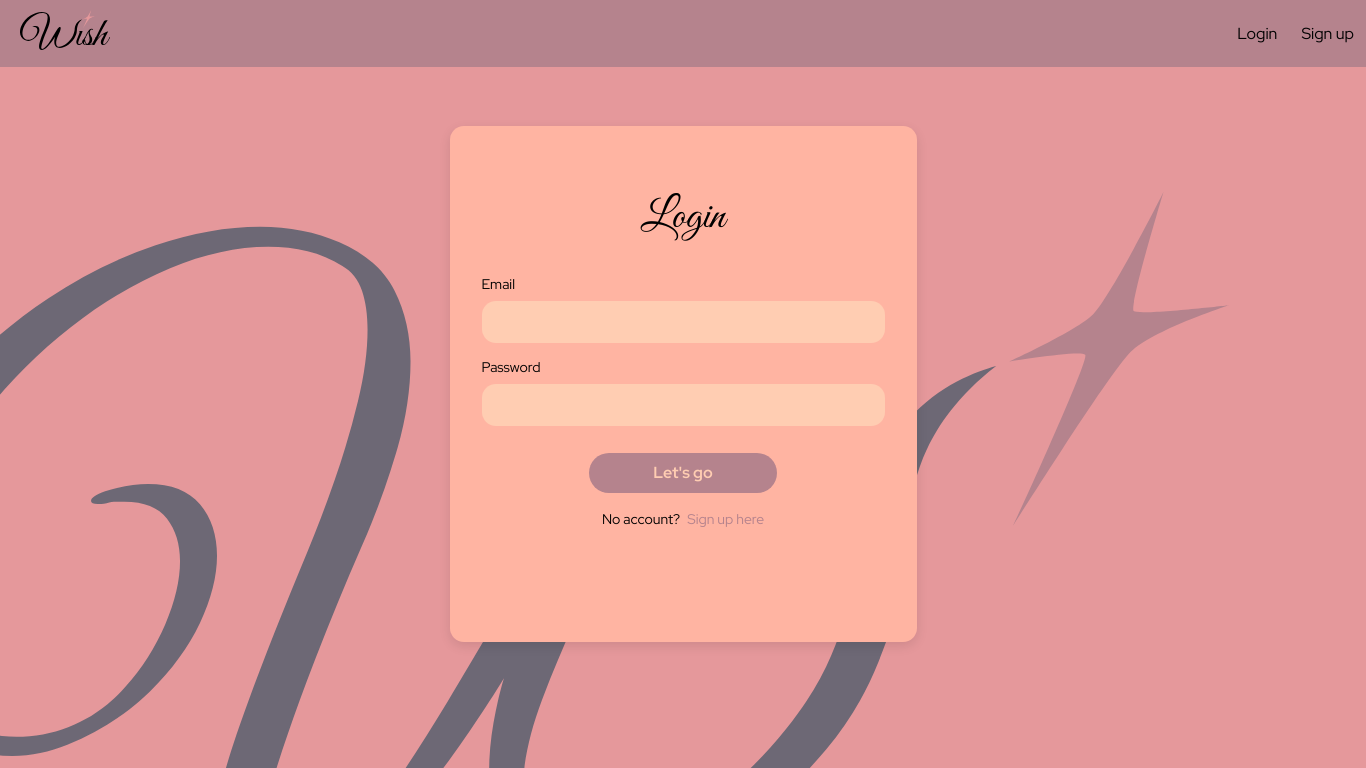
Test case: Auth (e2e) › switches to Sign Up form
Click the text "Sign up here" at [726, 519], box [687,510,764,528]
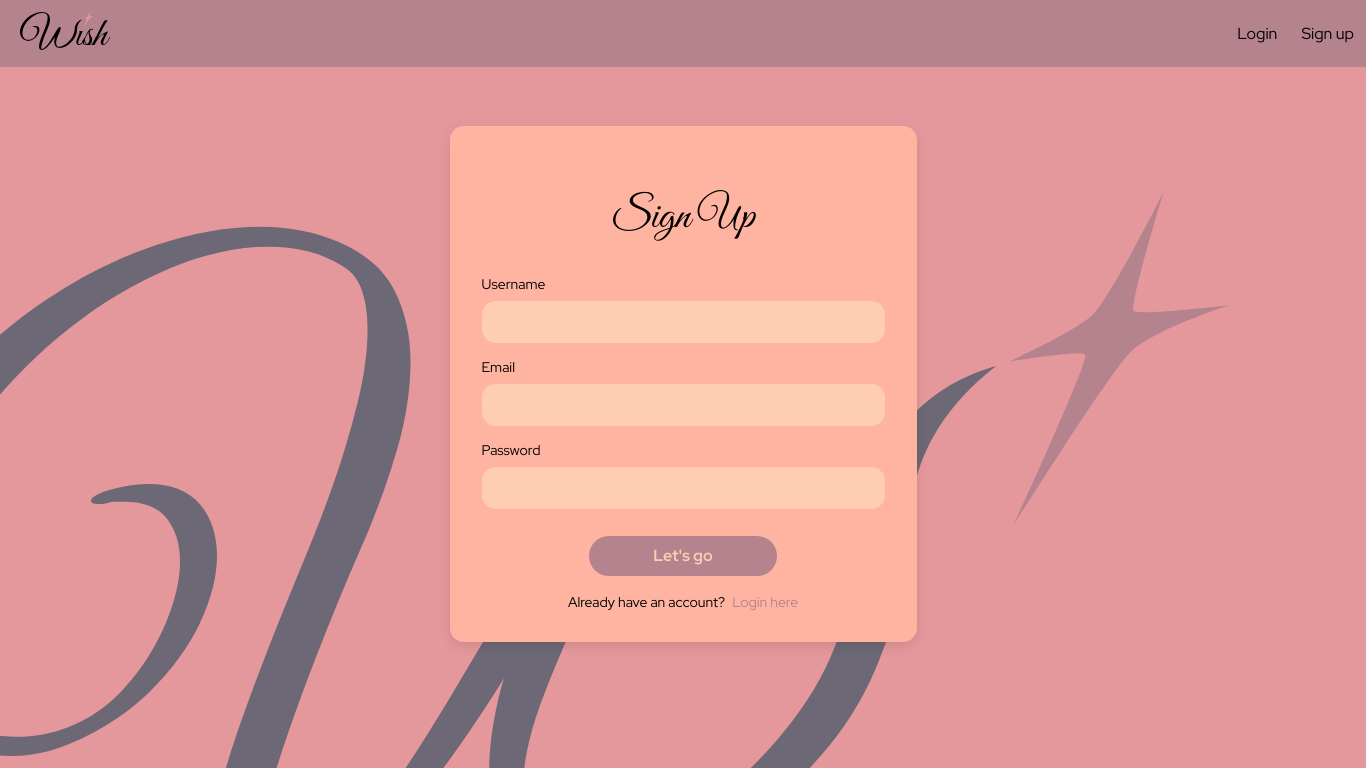
Expected: the field below "Username" is shown, [482,301,885,343]
Result: the heading "Sign Up" is shown at [611,190,755,244]
